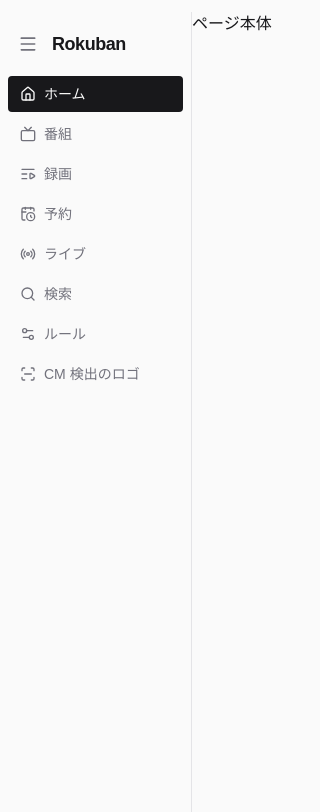
Test: AppShell / Sidebar の畳み込み › トグルを押すと畳まれ、もう一度押すと展開に戻る（両方向）
Note:  展開 → 畳む
Click the button named "ナビゲーションを畳む": (28,44) [12, 28, 44, 60]
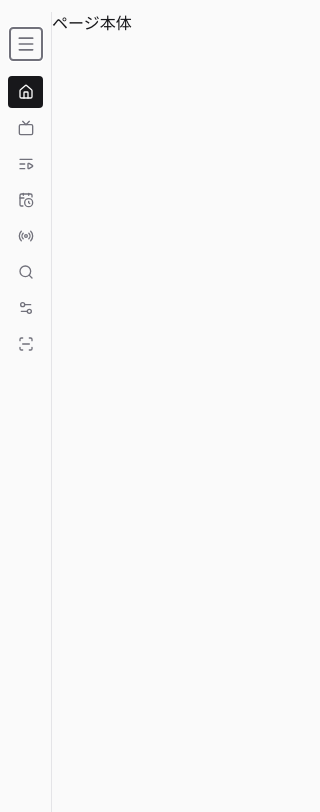
Result: the button named "ナビゲーションを開く" is collapsed
Result: the text "Rokuban" is gone
Note:  畳む → 展開
Click the button named "ナビゲーションを開く": (26,44) [10, 28, 42, 60]
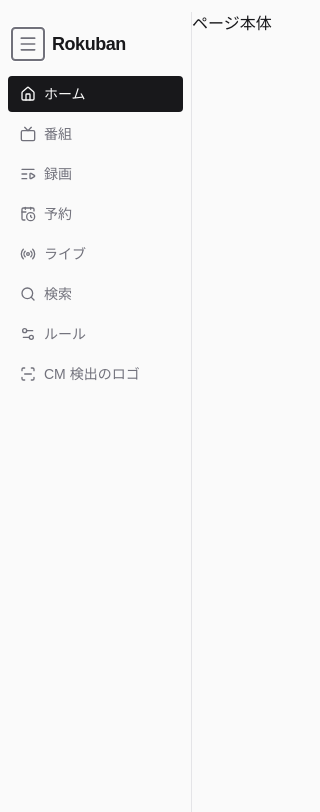
Result: the button named "ナビゲーションを畳む" is expanded at [12, 28, 44, 60]
Result: the text "Rokuban" is shown at [52, 30, 126, 58]
